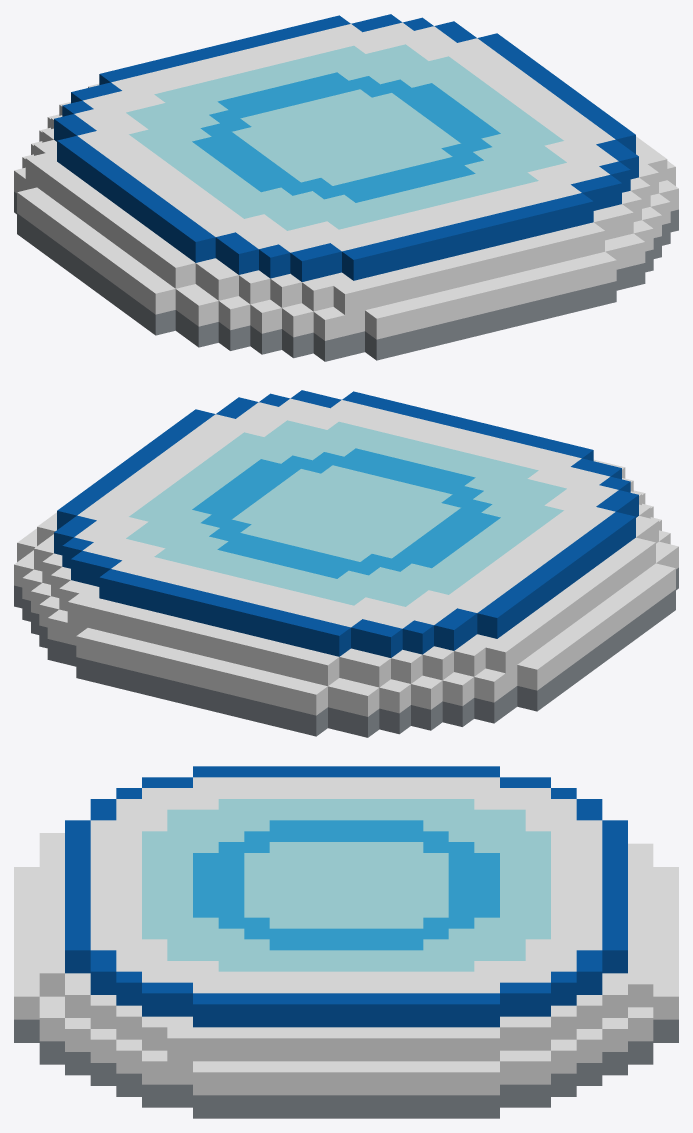
Rendered from goal.fbx.
The picture shows the model from 3 angles, top to bottom: view 1: azimuth 30°, elevation 25°; view 2: azimuth 150°, elevation 25°; view 3: azimuth 270°, elevation 25°; orthographic projection. The views are drawn at different scales.
Parts seen in each view (by area): view 1: goal; view 2: goal; view 3: goal.
Part boxes in pixels (x1=…): goal: x1=14, y1=14, x2=678, y2=361; goal: x1=14, y1=390, x2=678, y2=737; goal: x1=14, y1=766, x2=678, y2=1118.
Bounding box in the file's own units: 2.6 × 0.4 × 2.6.
1 material, 1 textured.
